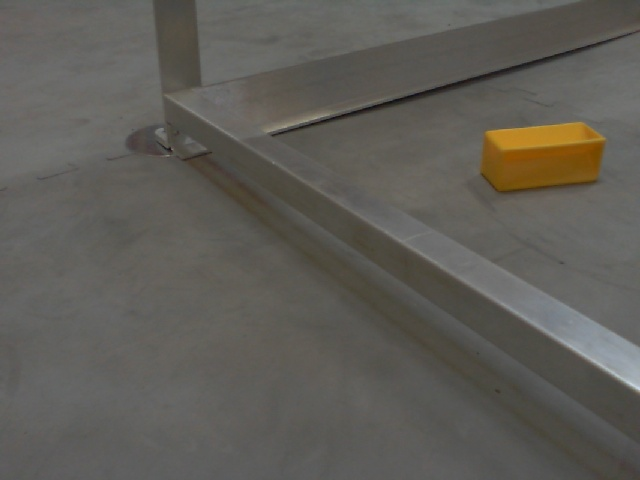YellowSample: (468, 119, 612, 197)
